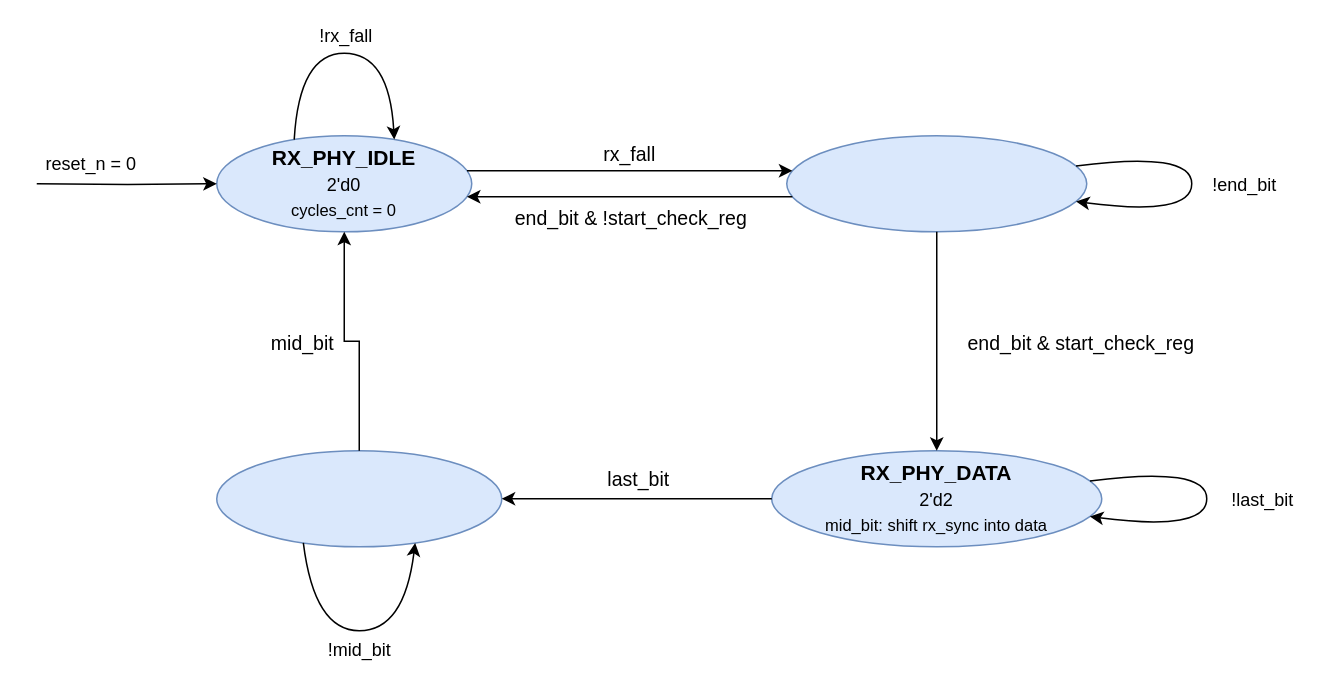
Some shapes in this 1319 by 686 pixel diagram are drawn without their labels. Each missing label, with the centre of its shape:
"RX_PHY_START 2'd1 3 samples of rx_sync: any 1 clears start_check_reg" belongs at (936,183).
"RX_PHY_STOP 2'd3 mid_bit: done = rx_sync" belongs at (358,498).
